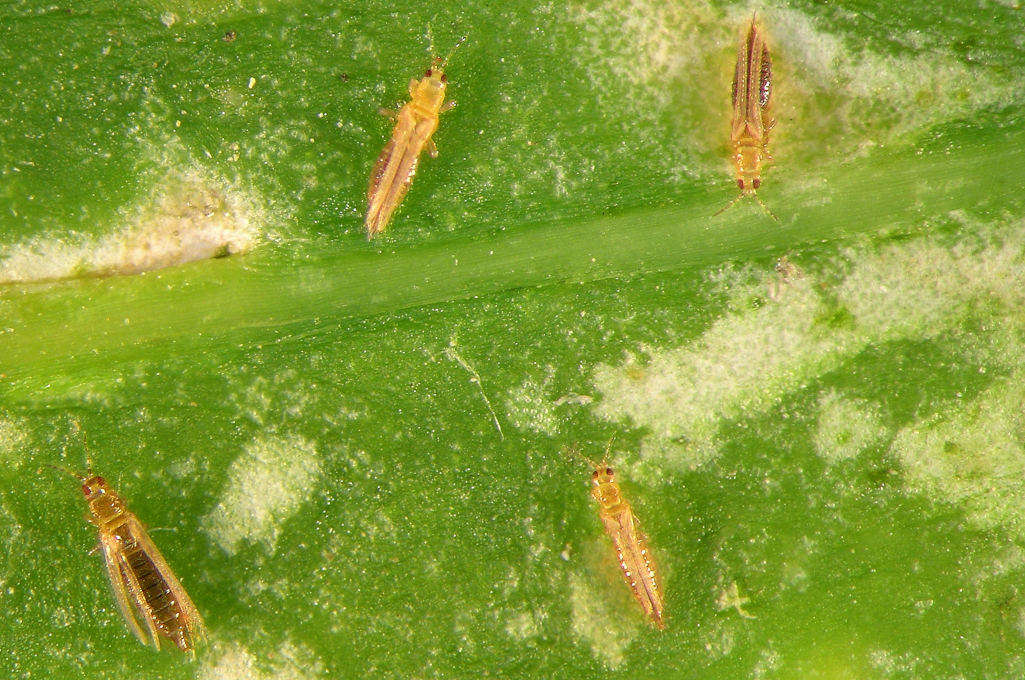Thripidae: (43, 435, 213, 660), (356, 37, 467, 239), (570, 431, 674, 630), (713, 17, 784, 227)
